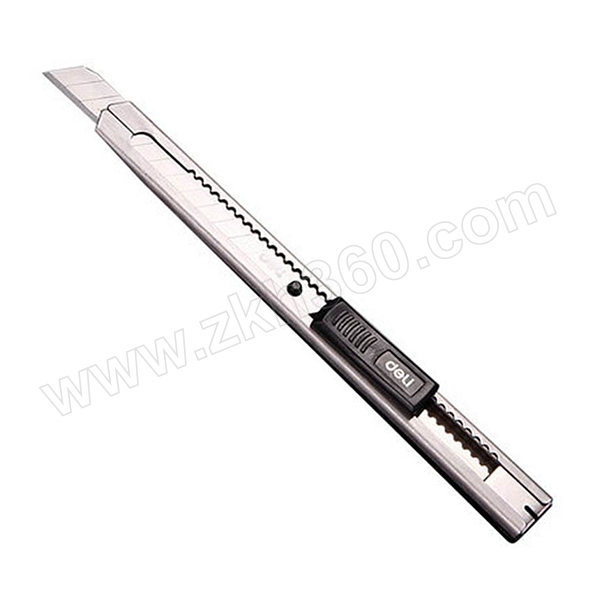cutter: (39, 65, 554, 544)
